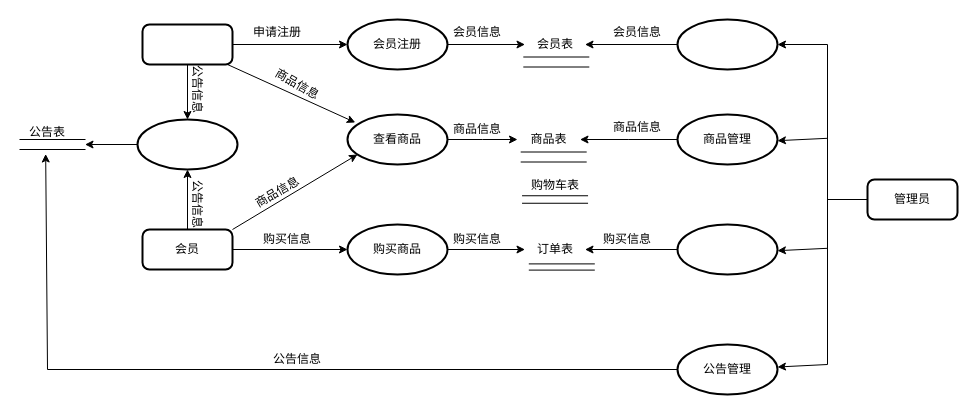
Some shapes in this 975 by 413 pixel diagram are drawn without their labels. The shapes that lost their labels are listed below. From the top down, each one's centre as x and y in pixels, then its label:
the point at 187,44: 访客
the point at 727,44: 会员信息管理
the point at 187,144: 浏览公告
the point at 727,249: 订单管理
